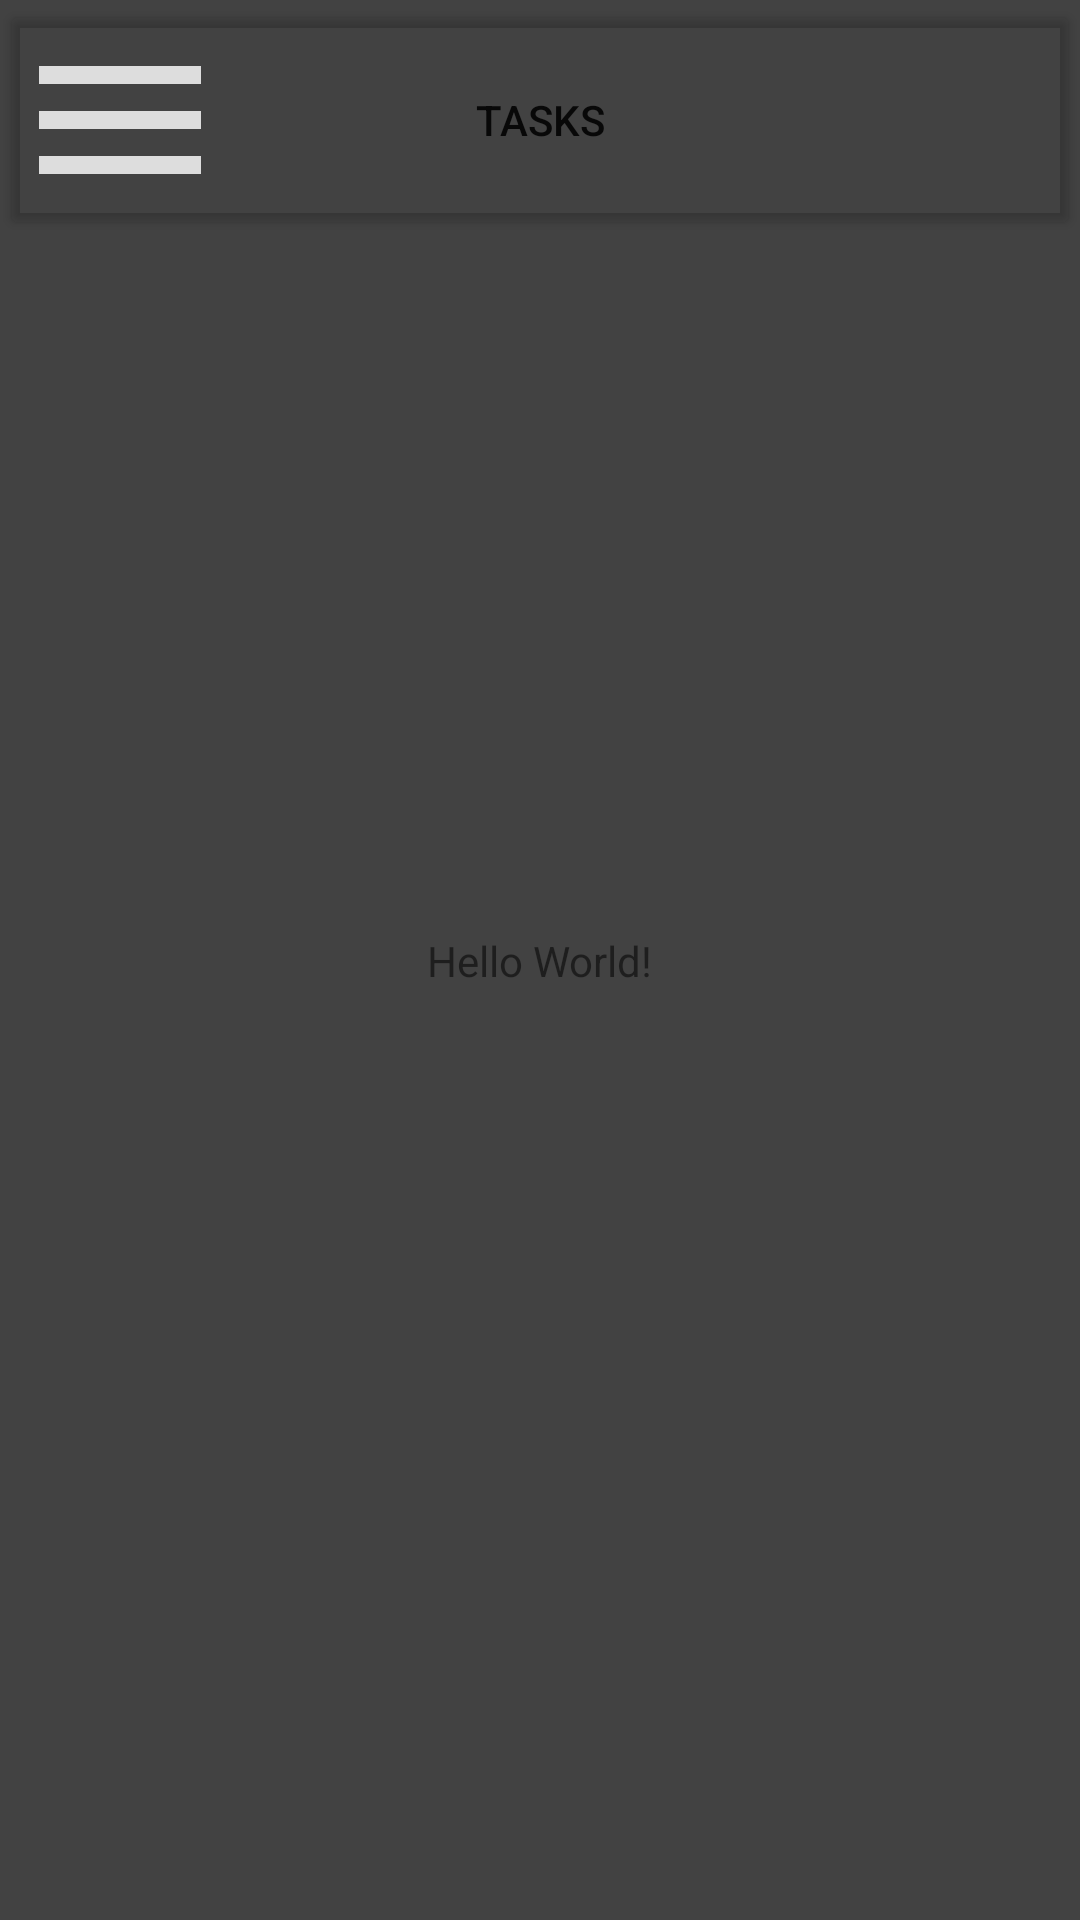

Where icons sit on this 1080 x 1920 app screen, as BBox(x1, y1, x2, y2):
menu: BBox(39, 66, 201, 174)
